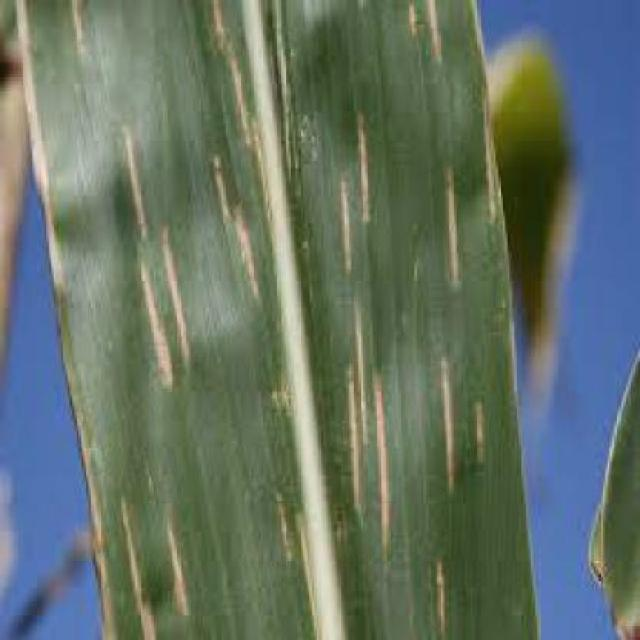Corn_Grey_Leaf_Spot: (46, 1, 506, 640)
